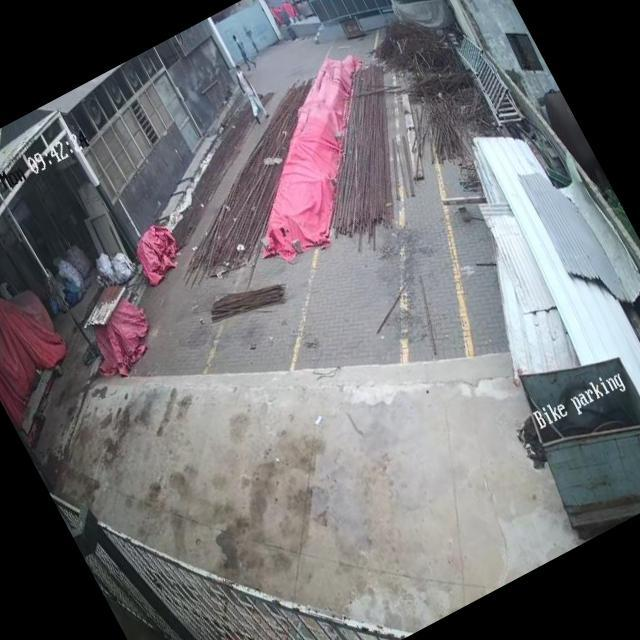person: (223, 55, 274, 126), (230, 29, 256, 66)
